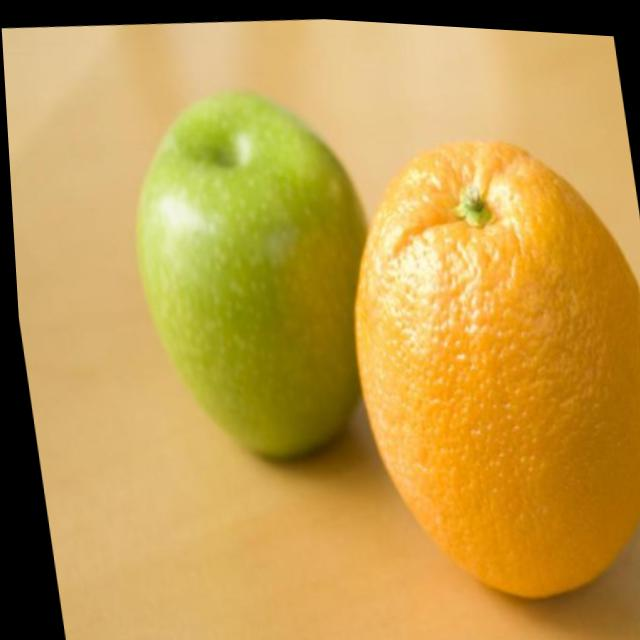Apple: (108, 71, 402, 507)
Orange: (320, 109, 640, 610)
